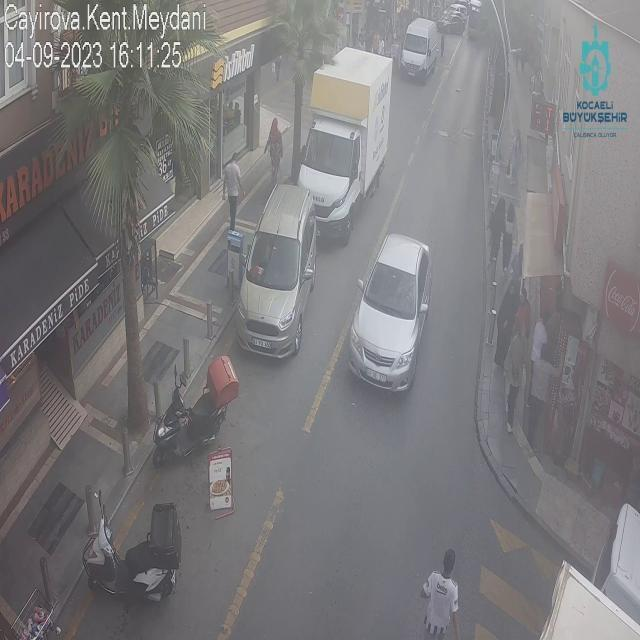Car: (353, 230, 434, 394)
Cycle: (82, 496, 183, 611), (152, 351, 238, 465)
Truck: (297, 49, 393, 236)
Van: (229, 185, 319, 359), (401, 17, 438, 81)
